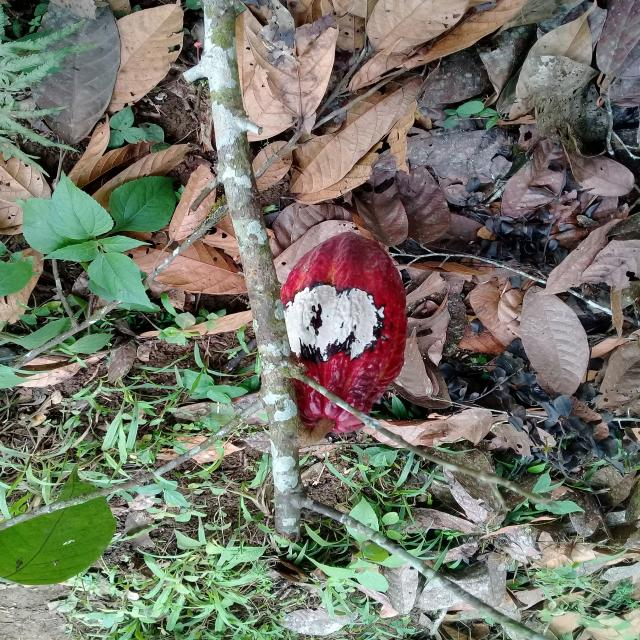Monilia: (273, 232, 410, 433)
